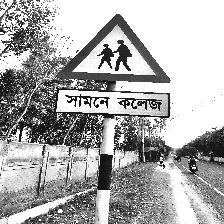College-in-front: (58, 14, 192, 152)
